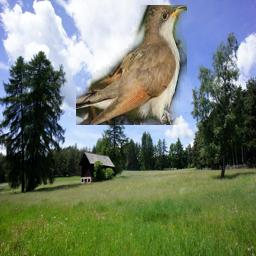Cuckoo: (76, 5, 187, 125)
